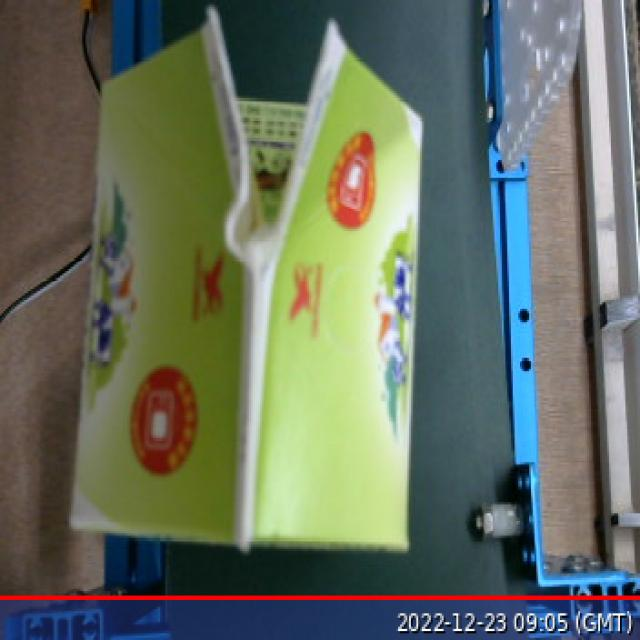non_white_jug: (61, 2, 432, 569)
